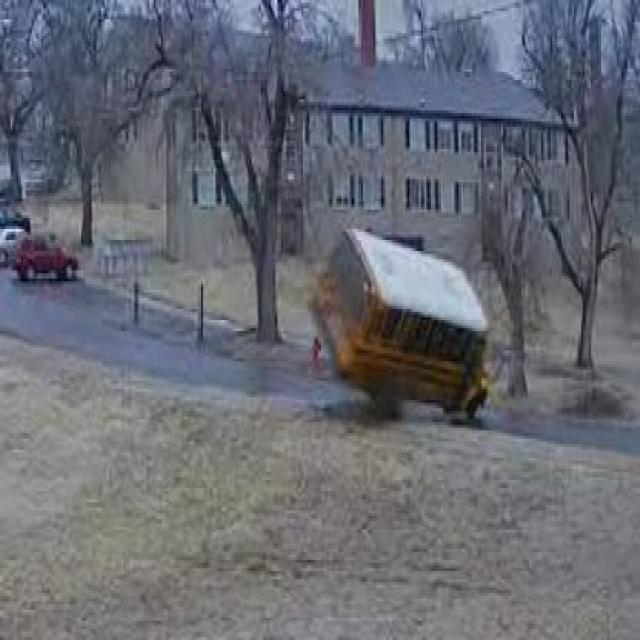accident: (308, 221, 492, 422)
